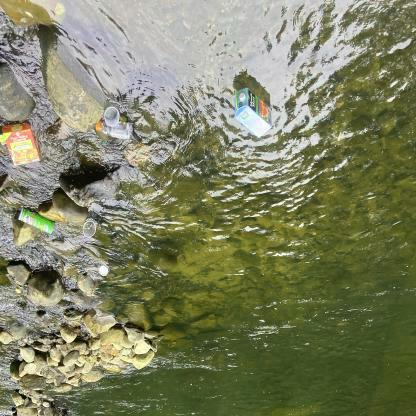Metal: (16, 204, 56, 237)
Plastic: (93, 105, 137, 142)
